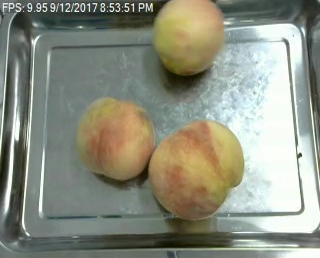Peach: (148, 118, 246, 218), (75, 96, 156, 182), (152, 2, 225, 77)
